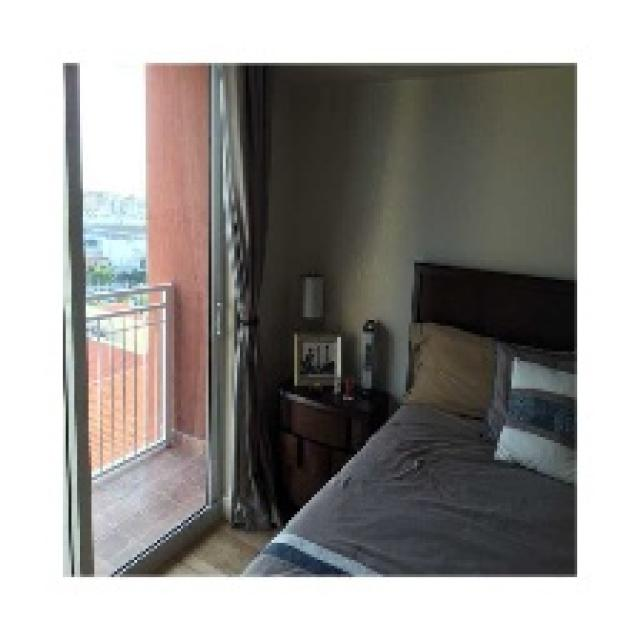Bed: (240, 260, 574, 574)
